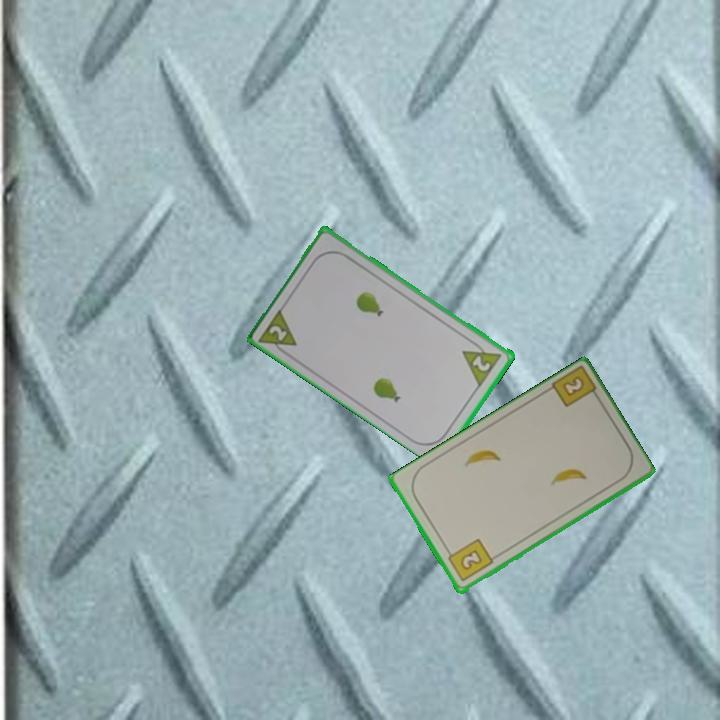2b: (443, 535, 496, 585), (547, 364, 603, 411)
2p: (256, 304, 300, 360), (459, 336, 506, 388)
